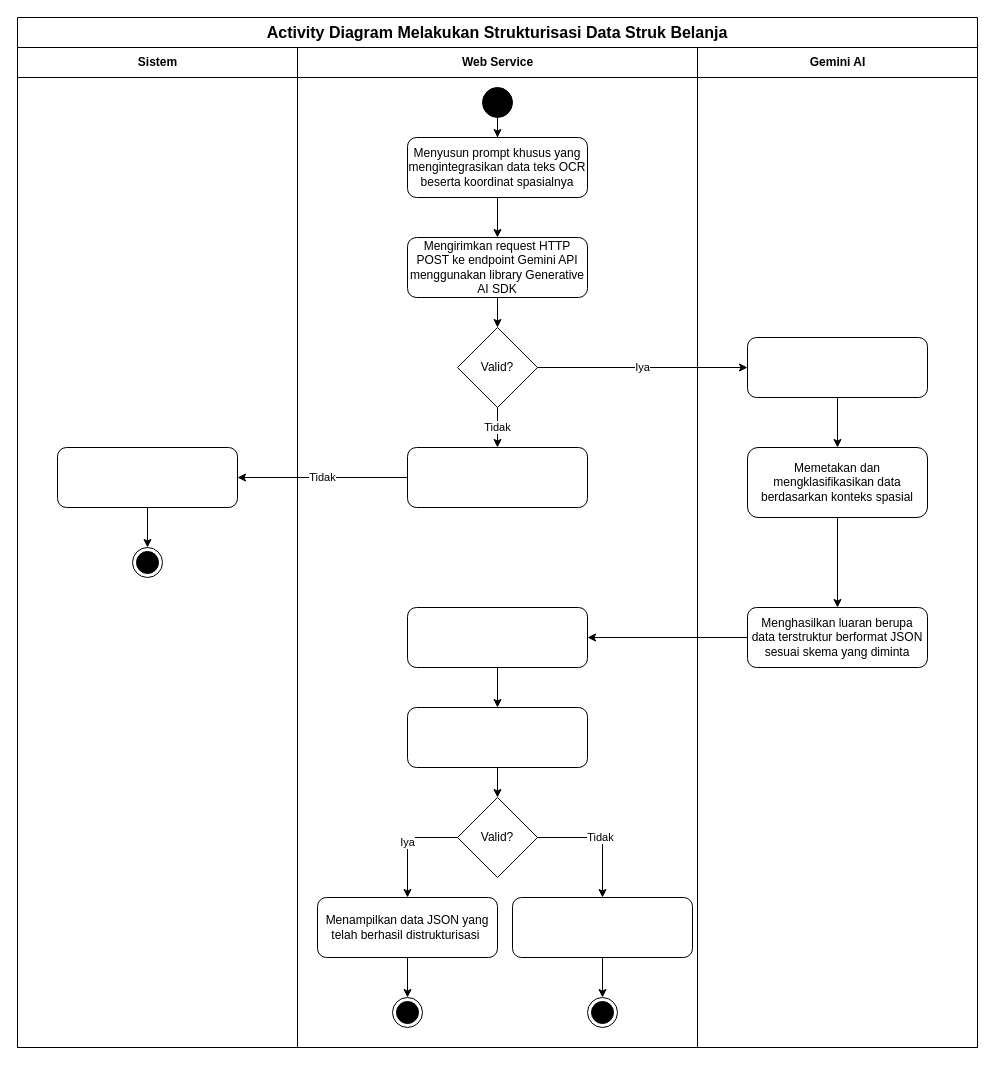
The diagram is 995 pixels wide and 1065 high, and some of its shapes have lost their labels. The centre of each missing label's shape, as x and y in pixels:
Jika tetap gagal, Web Service mengembalikan pesan kesalahan ke aplikasi: (x=602, y=927)
Menampilkan pesan bahwa layanan analisis AI sedang tidak tersedia: (x=147, y=477)
Mencatat log error dan mengembalikan kode status kegagalan API: (x=497, y=477)
Menerima request dan menganalisis payload teks dengan model gemini-2.5-flash: (x=837, y=367)
Web Service melakukan validasi kelengkapan data JSON hasil ekstraksi: (x=497, y=737)
Web Servicemenerima respons JSON dari Gemini API: (x=497, y=637)
